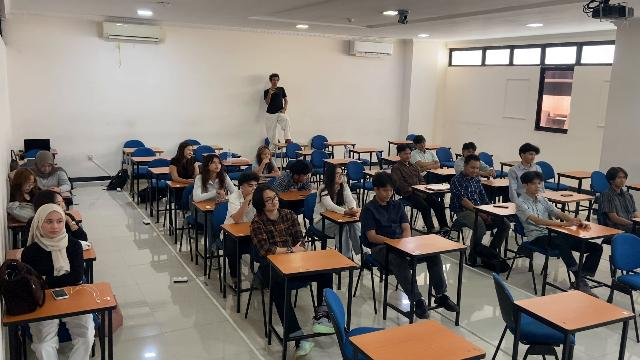senang: (44, 217, 62, 235), (266, 193, 279, 209), (530, 180, 542, 194), (381, 187, 393, 200), (469, 163, 479, 177), (210, 160, 221, 172), (617, 175, 626, 187), (403, 151, 412, 162), (185, 146, 193, 158), (335, 171, 343, 183), (417, 140, 426, 150), (528, 151, 535, 163)
